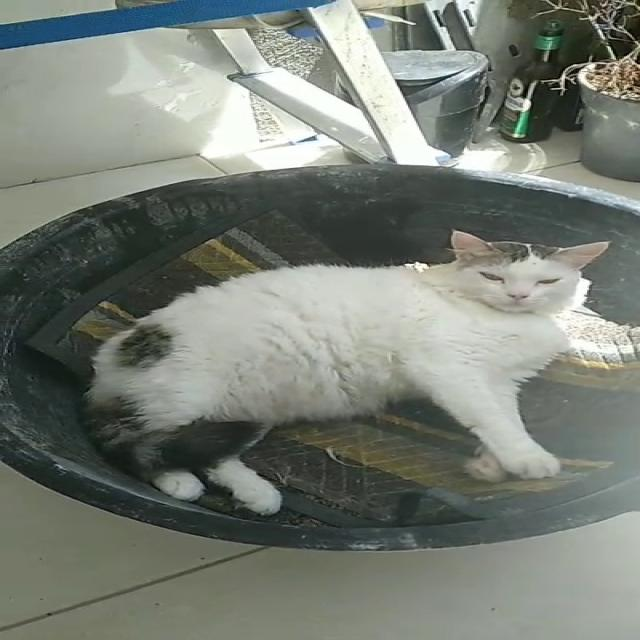Simba: (9, 190, 638, 500)
